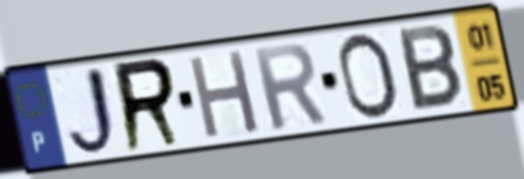B: (394, 22, 465, 115)
H: (184, 46, 263, 143)
J: (64, 63, 124, 160)
O: (335, 30, 403, 123)
R: (111, 54, 186, 157), (248, 39, 330, 133)
